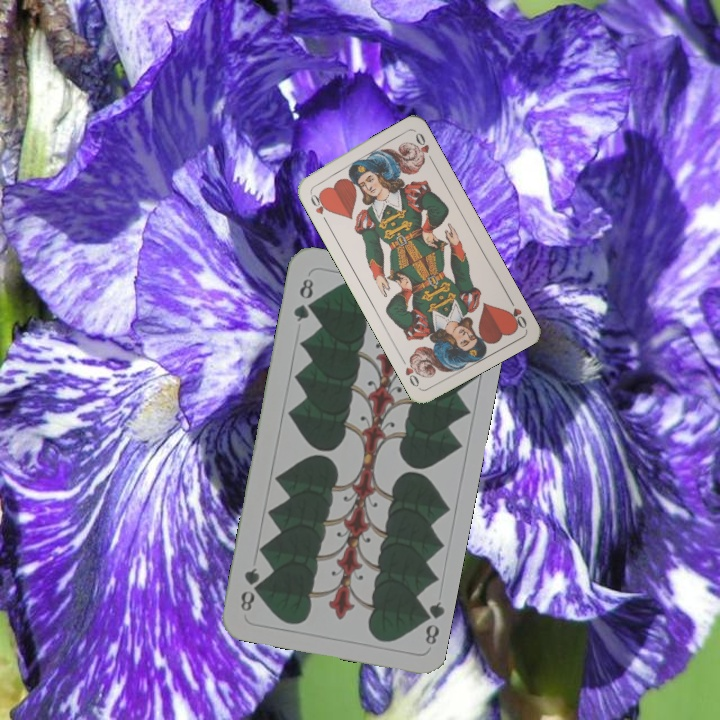G8: (415, 597, 446, 647), (289, 274, 316, 324)
HO: (306, 187, 332, 225), (504, 293, 529, 331)
